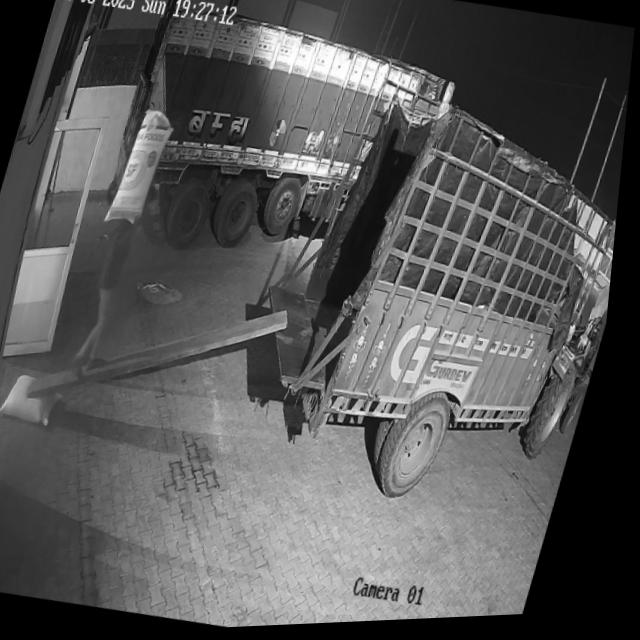sack: (108, 108, 179, 228), (5, 371, 71, 428)
